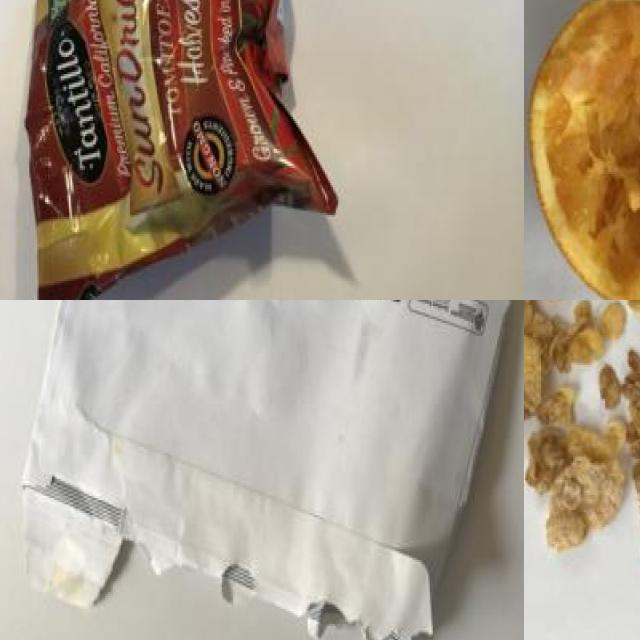compost: (524, 0, 640, 300), (524, 300, 640, 587)
paper: (18, 300, 515, 640)
trash: (9, 0, 352, 300)
